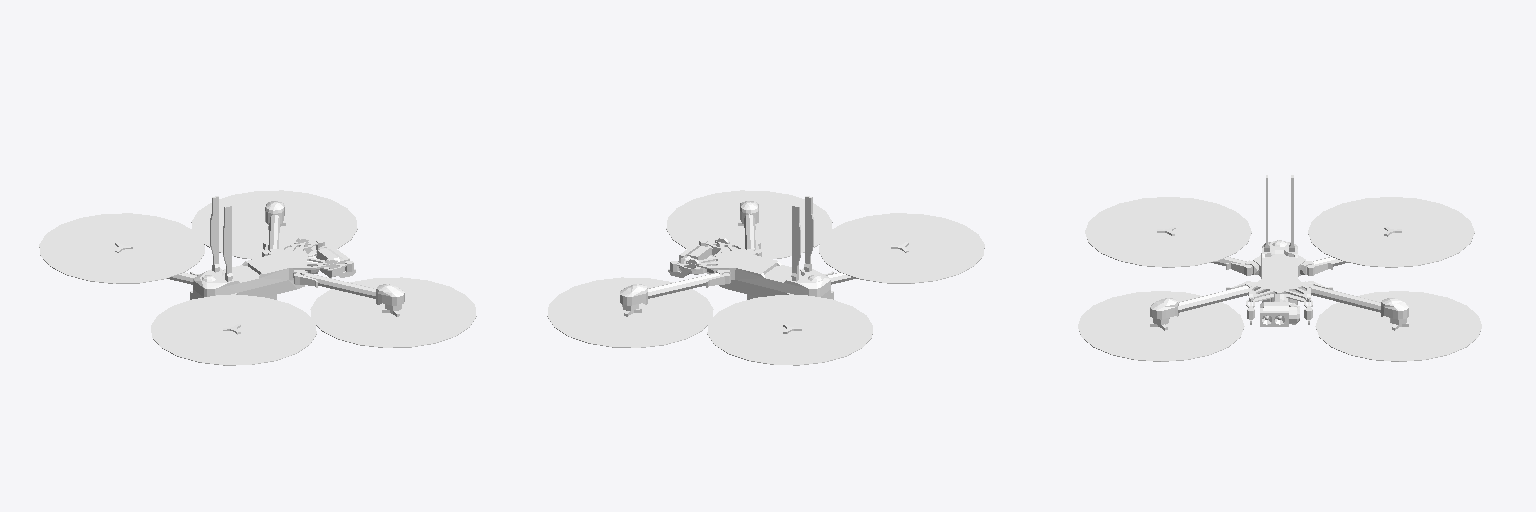
The picture shows the model from 3 angles: view 1: azimuth 30°, elevation 25°; view 2: azimuth 150°, elevation 25°; view 3: azimuth 270°, elevation 25°; orthographic projection.
Visible parts, largest first — view 1: drone; view 2: drone; view 3: drone.
Boxes of the visible parts, box(x1,y1,x2,y2) form: drone: box(39, 190, 476, 365); drone: box(547, 190, 984, 365); drone: box(1078, 175, 1481, 361).
Bounding box in the file's own units: 54.98 × 21.93 × 64.1.